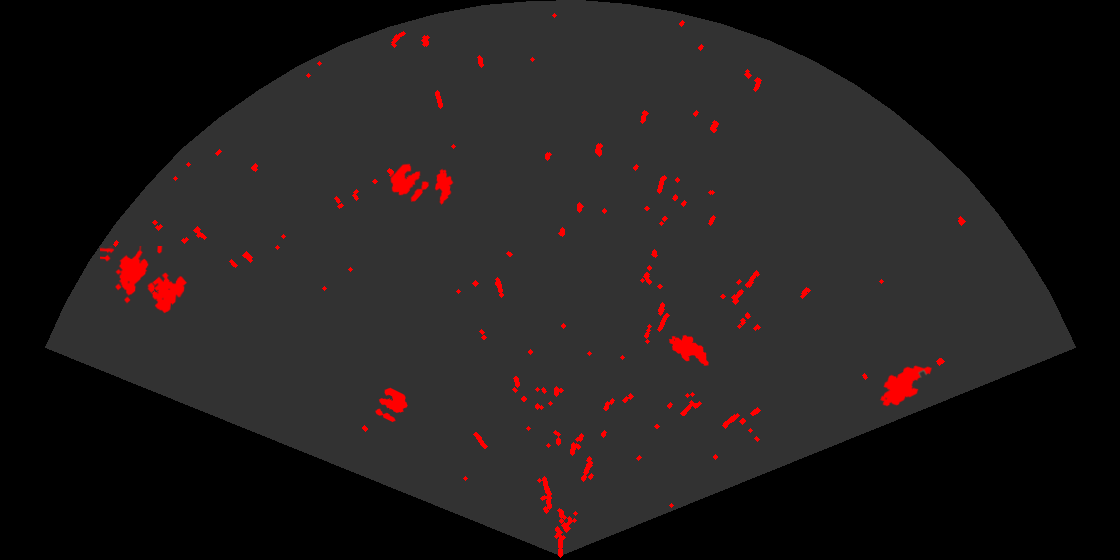AUV: (878, 364, 934, 408), (667, 333, 710, 367), (433, 167, 455, 206)
ball: (389, 162, 431, 204), (374, 386, 409, 424)
cage: (100, 246, 189, 315)
